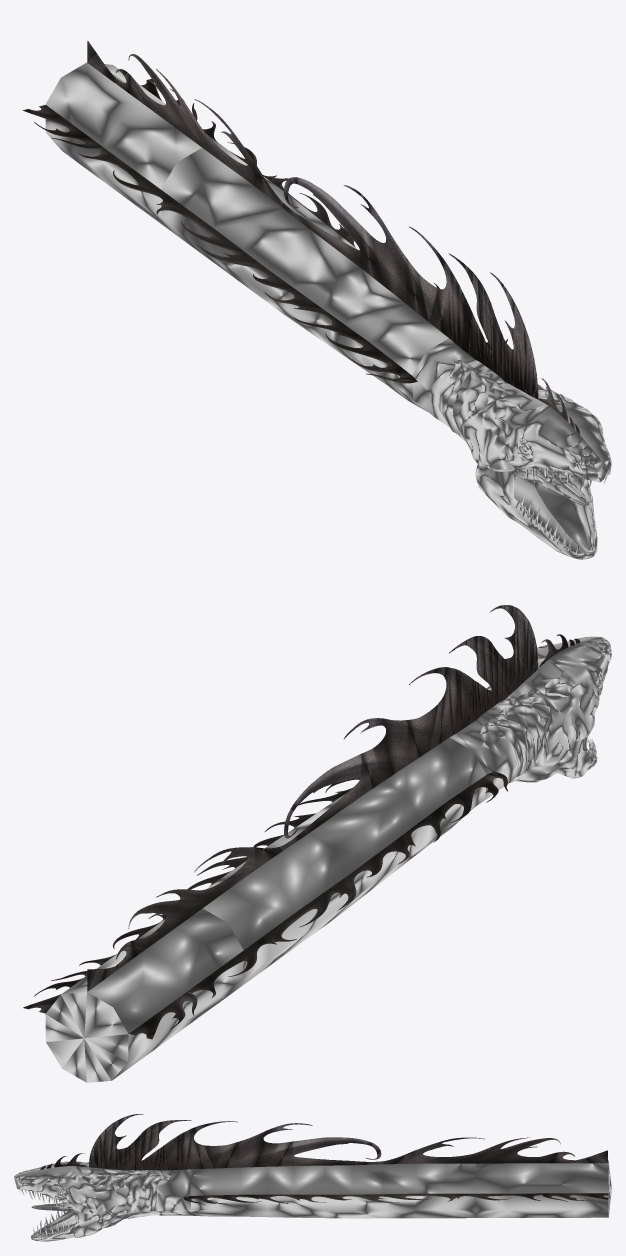
The picture shows the model from 3 angles, top to bottom: view 1: azimuth 30°, elevation 25°; view 2: azimuth 150°, elevation 25°; view 3: azimuth 270°, elevation 25°; orthographic projection. The views are drawn at different scales.
Parts seen in each view (by area): view 1: mesh0, mesh1; view 2: mesh0, mesh1; view 3: mesh0, mesh1.
Part boxes in pixels (box(x1,y1,x2,y2)): mesh0: box(45, 62, 611, 559); mesh1: box(23, 41, 580, 434); mesh0: box(45, 636, 611, 1082); mesh1: box(23, 605, 580, 1039); mesh0: box(14, 1161, 611, 1241); mesh1: box(40, 1114, 608, 1204).
Bounding box in the file's own units: 4.77 × 6.87 × 29.16.
